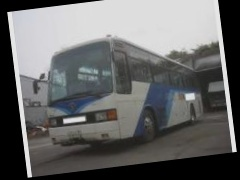bus: (34, 23, 211, 157)
